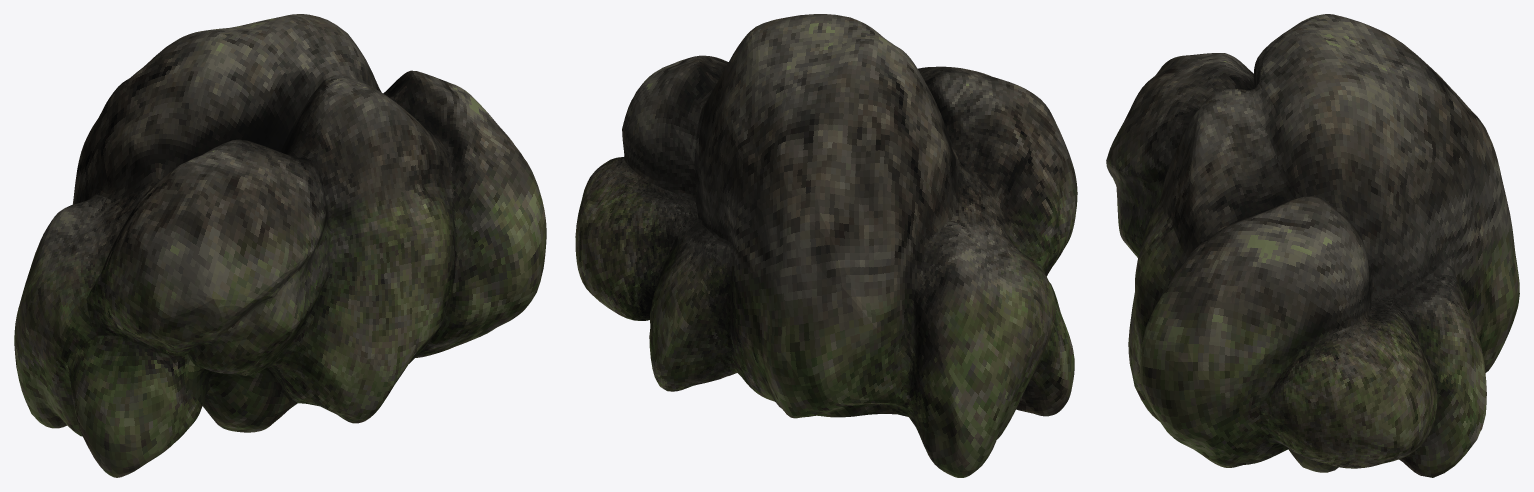
Rendered from rocks_02.glb.
3 views of the same model, side by side, from view 1: azimuth 30°, elevation 25°; view 2: azimuth 150°, elevation 25°; view 3: azimuth 270°, elevation 25° (orthographic). The views are drawn at different scales.
Parts seen in each view (by area): view 1: rocks_02; view 2: rocks_02; view 3: rocks_02.
Boxes of the visible parts, box(x1,y1,x2,y2) form: rocks_02: box(14, 14, 546, 477); rocks_02: box(575, 14, 1077, 477); rocks_02: box(1106, 14, 1519, 477).
Bounding box in the file's own units: 11.05 × 8.92 × 8.02.
1 material, 1 textured.
